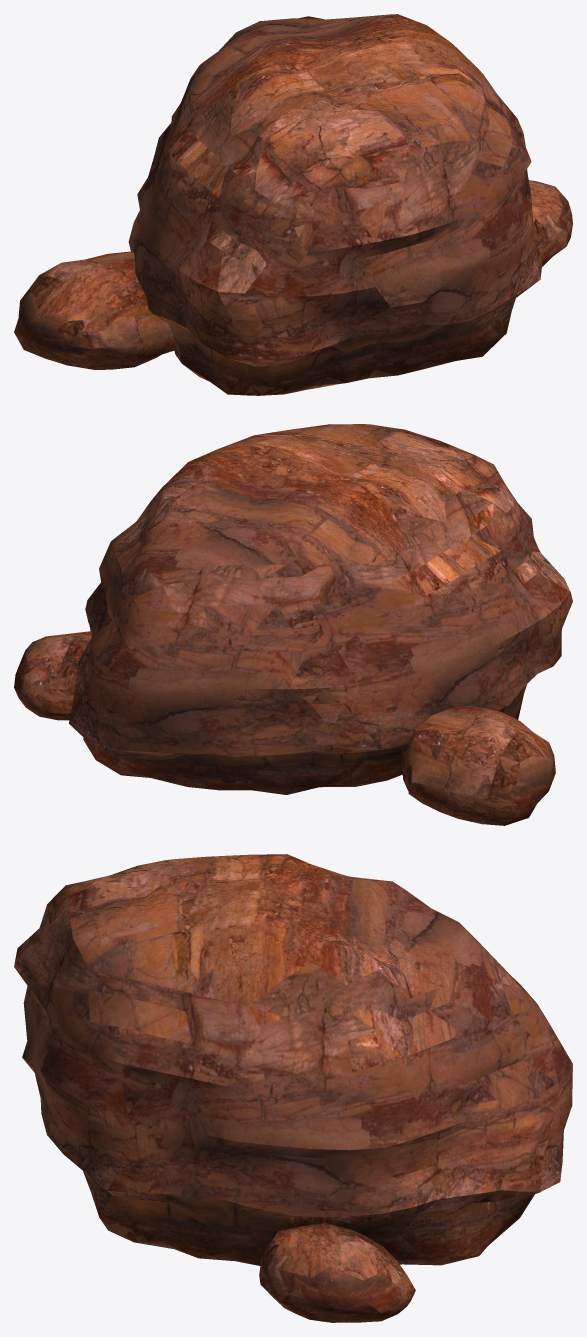
Rendered from boulder_03.glb.
3 views of the same model, one above another, from view 1: azimuth 30°, elevation 25°; view 2: azimuth 150°, elevation 25°; view 3: azimuth 270°, elevation 25° (orthographic). The views are drawn at different scales.
Visible parts, largest first — view 1: boulder_03; view 2: boulder_03; view 3: boulder_03.
Part boxes in pixels (bbox=[...]): boulder_03: bbox=[14, 14, 572, 395]; boulder_03: bbox=[14, 424, 572, 825]; boulder_03: bbox=[14, 854, 572, 1322].
Size of the model in its own units: 7.17 by 3.53 by 5.73.
1 material, 1 textured.
